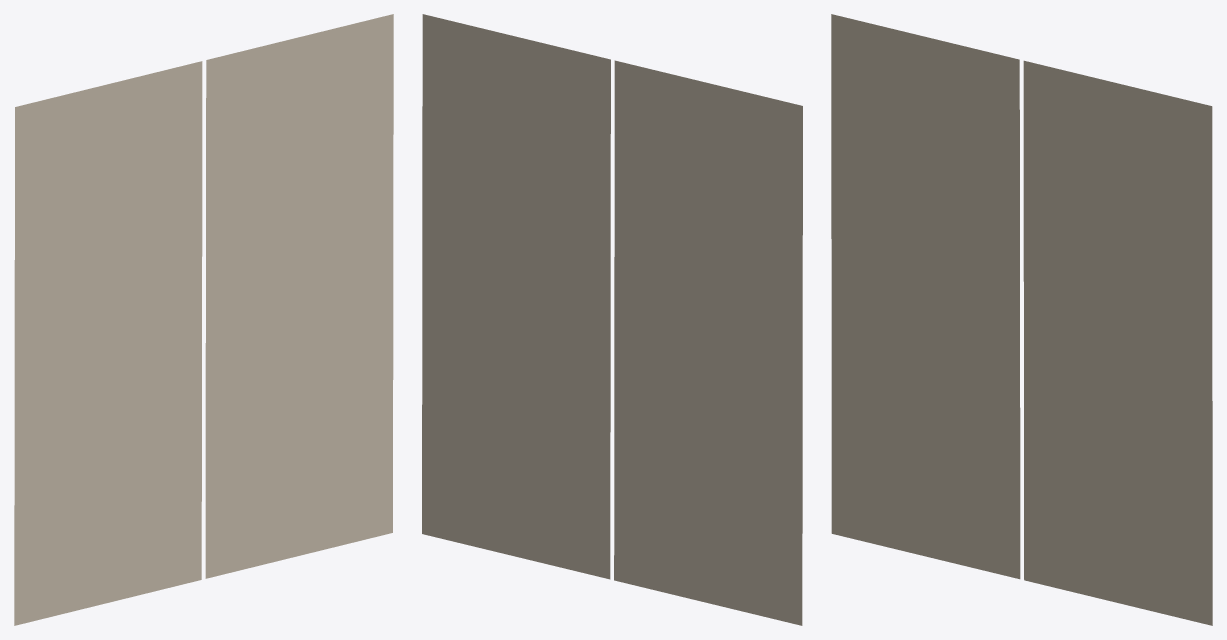
Rendered from cloth-base.glb.
3 renders of one model, left to right at view 1: azimuth 30°, elevation 25°; view 2: azimuth 150°, elevation 25°; view 3: azimuth 330°, elevation 25°, orthographic.
Size of the model in its own units: 0.4608 by 0.6026 by 0.00304.
